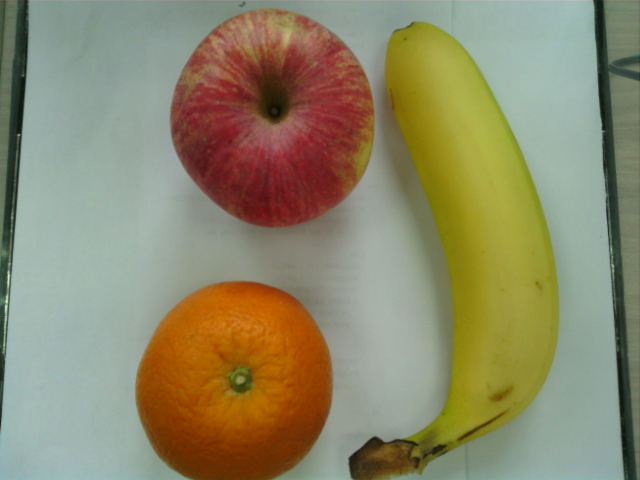fresh_orange: (134, 277, 336, 480)
normal_apple: (170, 8, 376, 232)
normal_banana: (380, 19, 564, 480)
